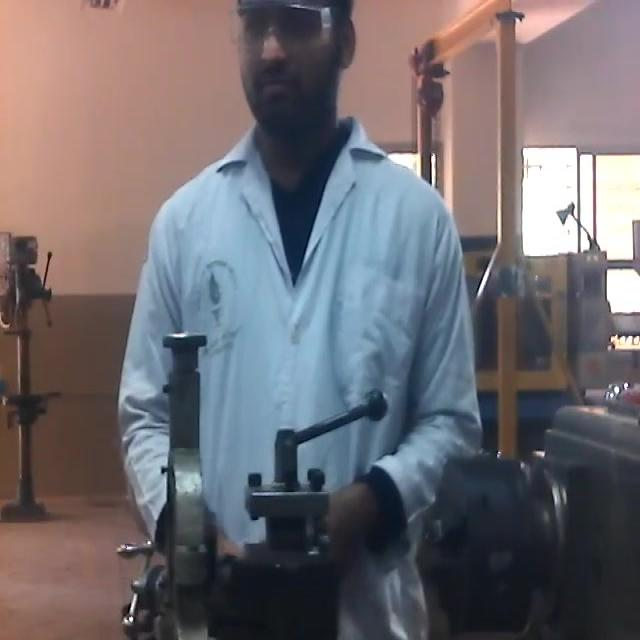googles: (230, 0, 331, 68)
labcoat: (117, 108, 486, 640)
